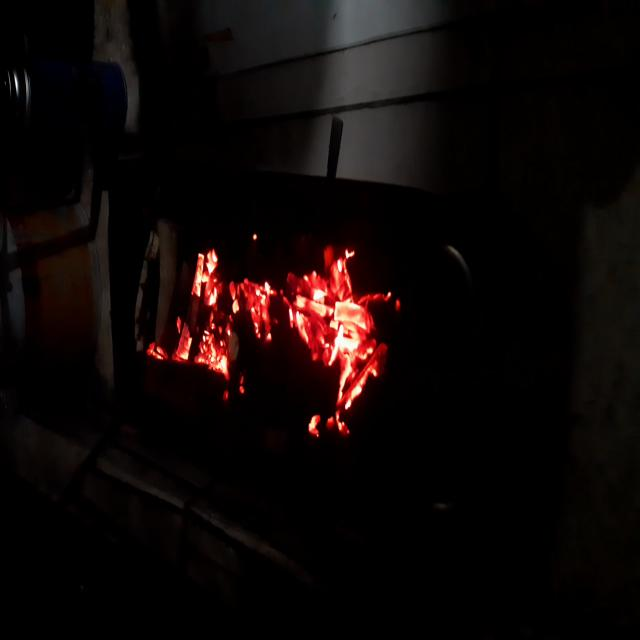Fire: (134, 197, 405, 468)
